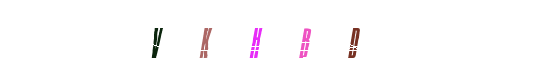B: (240, 0, 320, 80)
D: (302, 0, 382, 80)
H: (227, 0, 307, 80)
K: (184, 0, 264, 80)
V: (116, 0, 196, 80)
